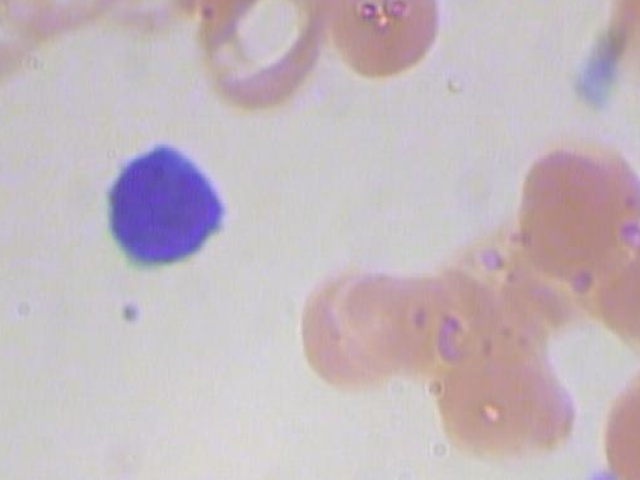Platelets: (572, 461, 616, 480)
RBC: (429, 326, 581, 472), (511, 134, 640, 304), (192, 0, 322, 120), (298, 255, 409, 389), (312, 0, 452, 77), (0, 0, 130, 57), (598, 355, 640, 480), (0, 0, 54, 84)
WBC: (86, 122, 244, 294)
